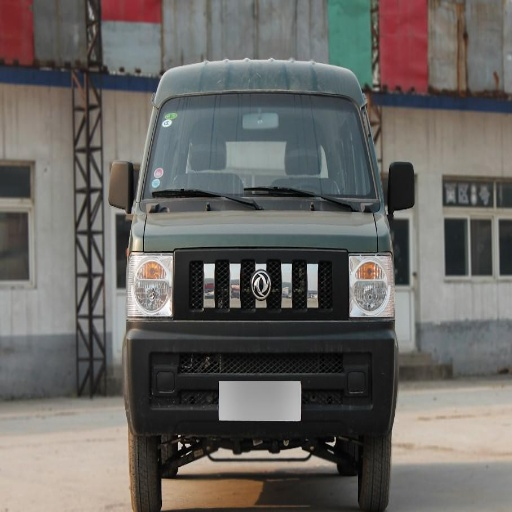front_bumper: (127, 321, 368, 430)
front_right_light: (129, 250, 170, 308)
hood: (140, 199, 378, 318)
left_mirror: (388, 161, 417, 212)
